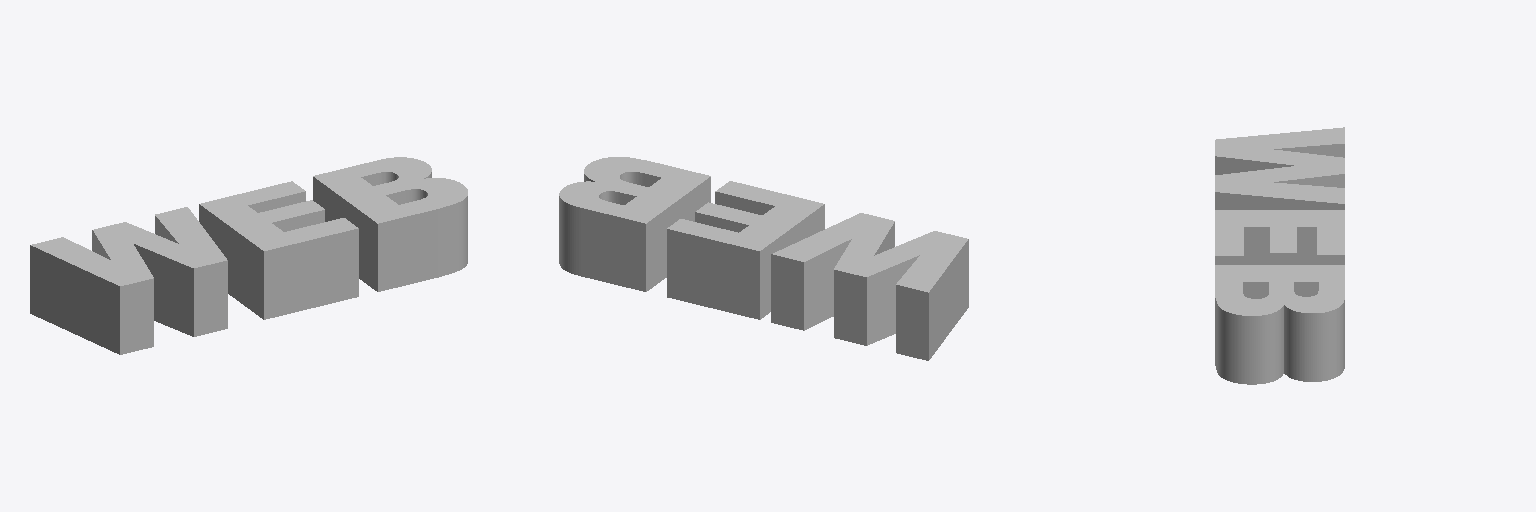
File: only WEB.obj
3 renders of one model, left to right at view 1: azimuth 30°, elevation 25°; view 2: azimuth 150°, elevation 25°; view 3: azimuth 270°, elevation 25°, orthographic.
Parts seen in each view (by area): view 1: Text; view 2: Text; view 3: Text.
Boxes of the visible parts, box(x1,y1,x2,y2) form: Text: box(30, 157, 467, 354); Text: box(559, 157, 968, 360); Text: box(1215, 127, 1344, 384).
Size of the model in its own units: 1.77 by 0.3 by 0.5149.